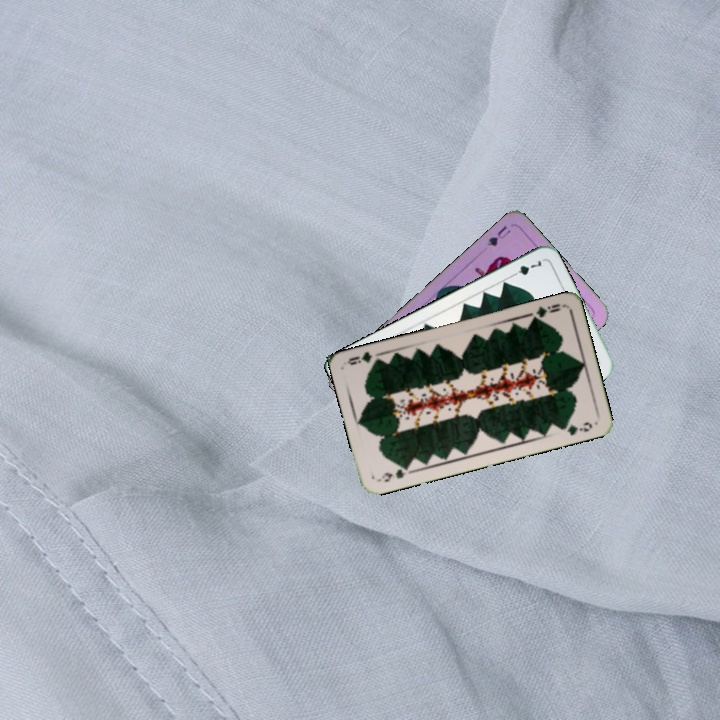G7: (506, 256, 544, 280)
G9: (526, 299, 566, 324), (374, 461, 414, 485)
GU: (483, 221, 513, 249)
